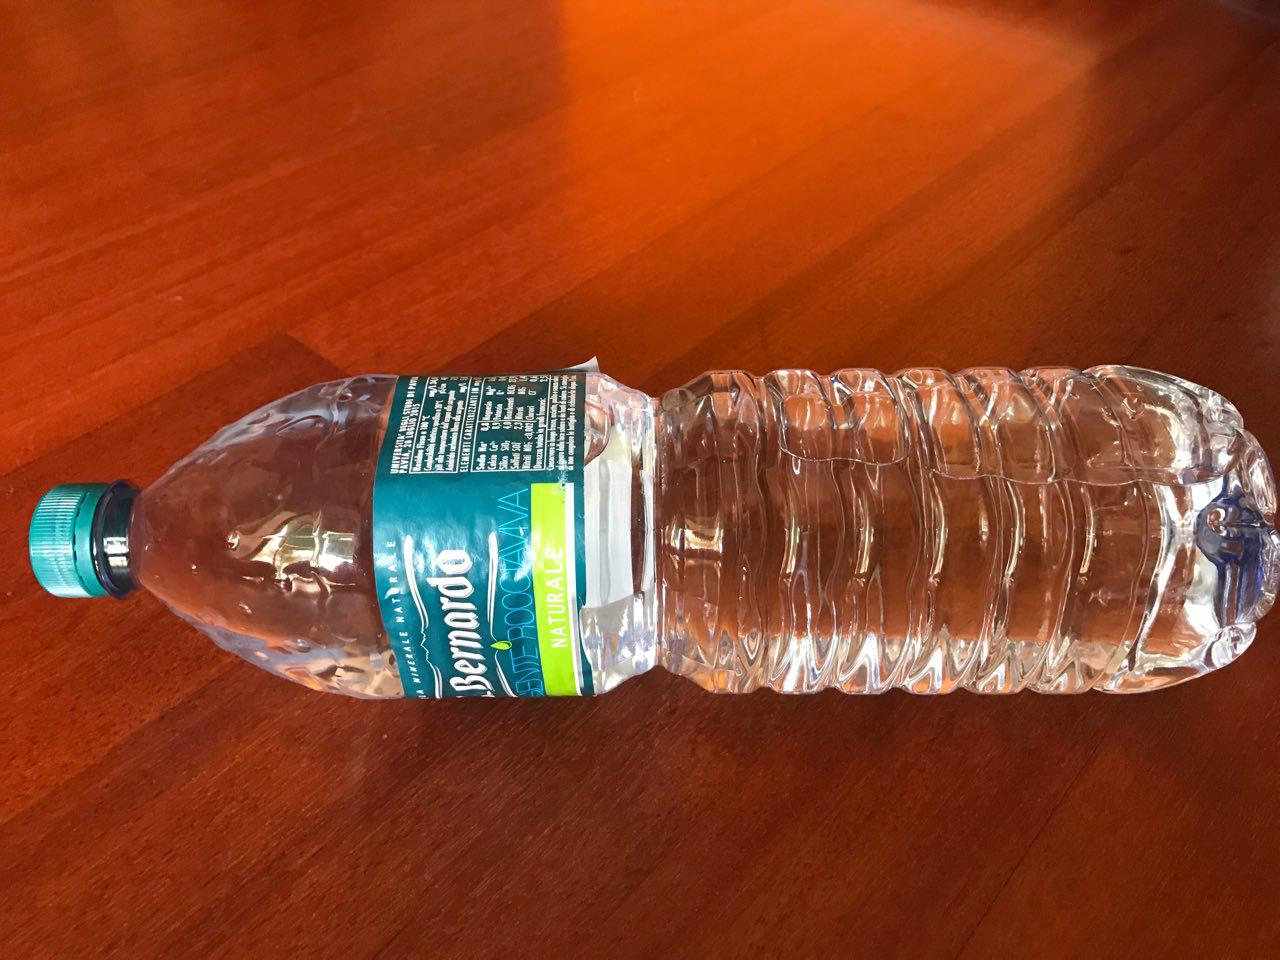san_bernardo: (24, 363, 1280, 702)
